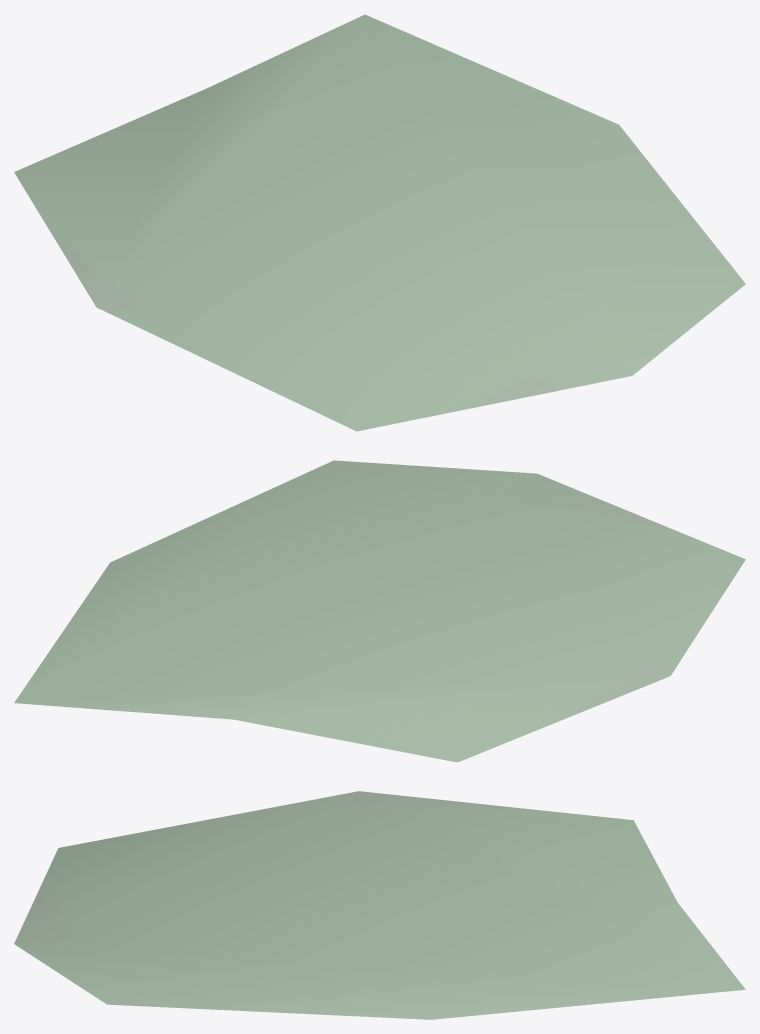
File: TROLLHOLE02_HOLECAP.fbx
The picture shows the model from 3 angles, top to bottom: view 1: azimuth 30°, elevation 25°; view 2: azimuth 150°, elevation 25°; view 3: azimuth 270°, elevation 25°; orthographic projection. The views are drawn at different scales.
Parts seen in each view (by area): view 1: TROLLHOLE02_HOLECAP; view 2: TROLLHOLE02_HOLECAP; view 3: TROLLHOLE02_HOLECAP.
Part boxes in pixels (x1,y1,x2,y2): TROLLHOLE02_HOLECAP: (14,14,745,431); TROLLHOLE02_HOLECAP: (14,460,745,762); TROLLHOLE02_HOLECAP: (14,791,745,1019).
Bounding box in the file's own units: 22042 × 1346 × 28176.
1 material, 1 textured.
